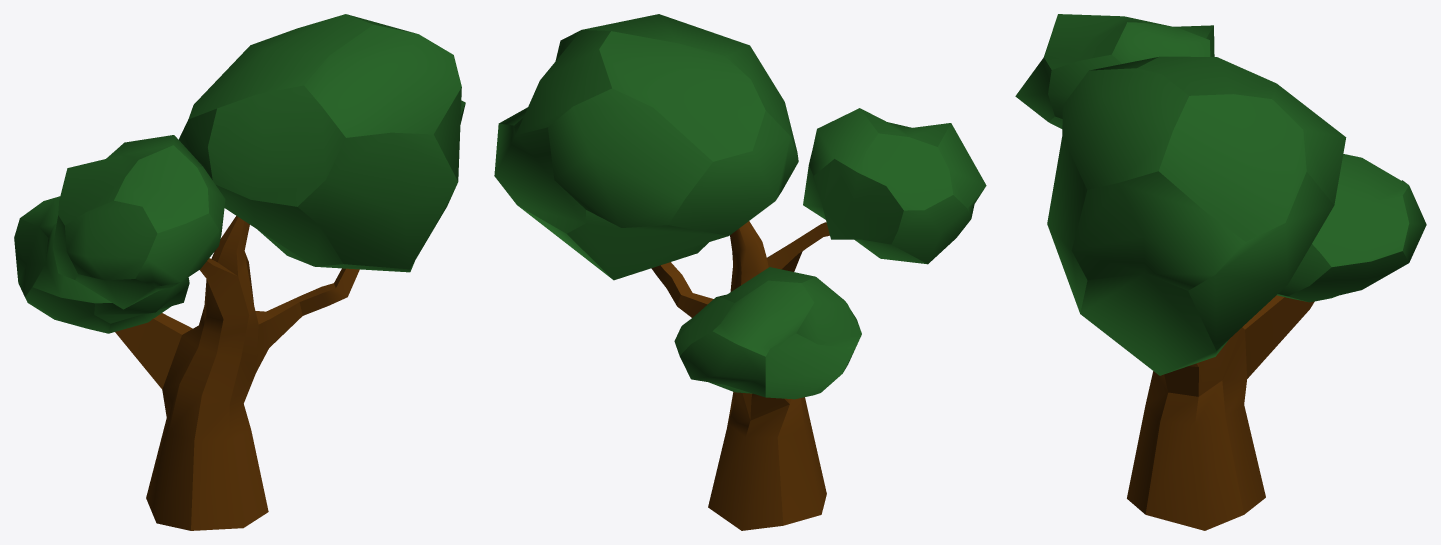
The model's file is Tree A.fbx.
3 renders of one model, left to right at view 1: azimuth 30°, elevation 25°; view 2: azimuth 150°, elevation 25°; view 3: azimuth 270°, elevation 25°, orthographic. The views are drawn at different scales.
Parts seen in each view (by area): view 1: pPlatonic2, pCube1, pPlatonic1, pPlatonic3; view 2: pPlatonic2, pPlatonic1, pPlatonic3, pCube1; view 3: pPlatonic2, pCube1, pPlatonic3, pPlatonic1.
Boxes of the visible parts, x1,y1,x2,y2 form: pPlatonic2: [178, 14, 465, 272]; pCube1: [115, 216, 359, 530]; pPlatonic1: [52, 135, 225, 309]; pPlatonic3: [14, 196, 189, 333]; pPlatonic2: [494, 14, 798, 280]; pPlatonic1: [803, 108, 986, 264]; pPlatonic3: [674, 267, 861, 399]; pCube1: [651, 221, 829, 530]; pPlatonic2: [1047, 56, 1346, 375]; pCube1: [1127, 295, 1314, 530]; pPlatonic3: [1277, 154, 1426, 302]; pPlatonic1: [1015, 14, 1214, 128].
Size of the model in its own units: 5.68 by 5.55 by 4.17.
